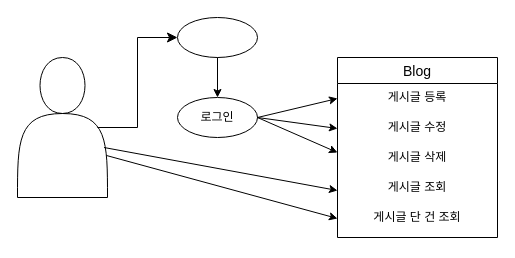
Image size: 515x258. Some labels were removed from this diagram. Each missing label, with the box of its shape:
User: (16, 56, 108, 198)
회원가입: (176, 16, 258, 58)
